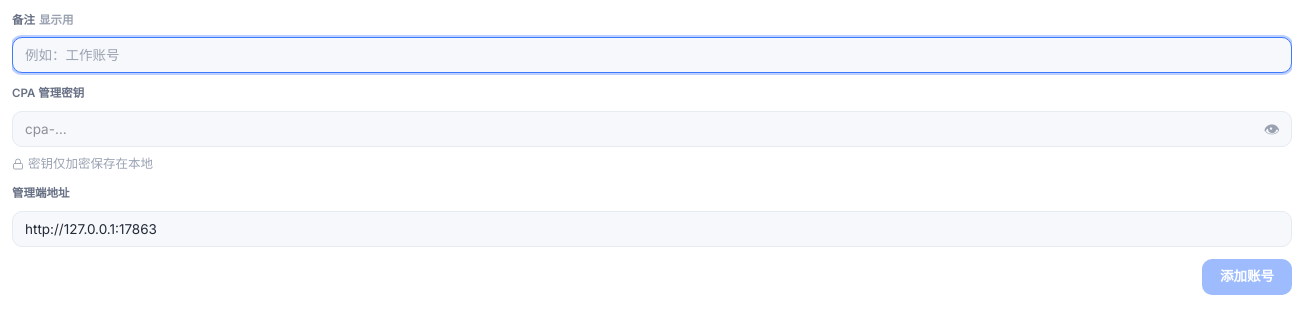
it: CpaMgmtForm › disables save until key is entered
Check: the button "添加账号" is disabled, box [1202,258,1292,294]
Type "secret" into the password field with placeholder "cpa-…" at (652, 128), box [12,110,1292,146]
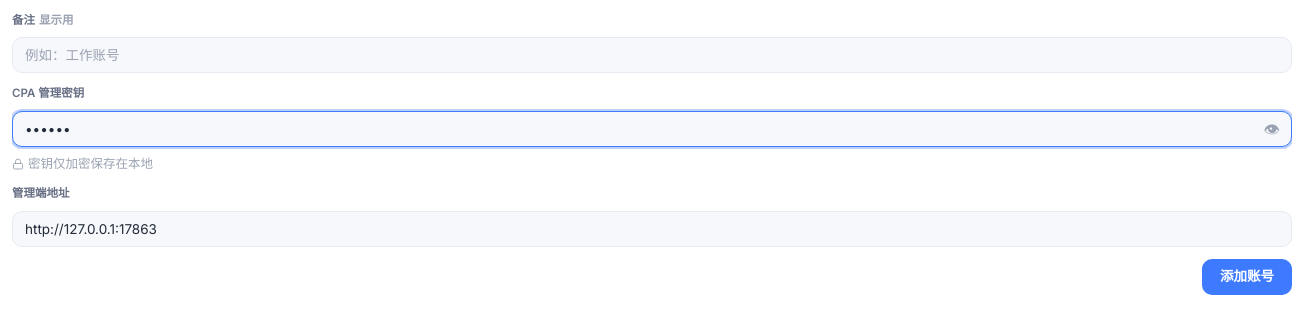
Check: the button "添加账号" is enabled, box [1202,258,1292,294]
